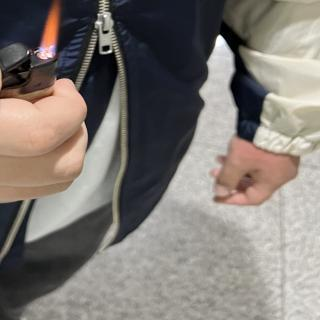fire: (36, 3, 62, 53)
